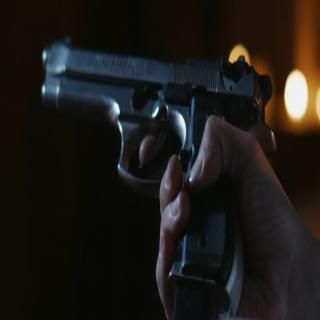gun: (35, 27, 280, 316)
